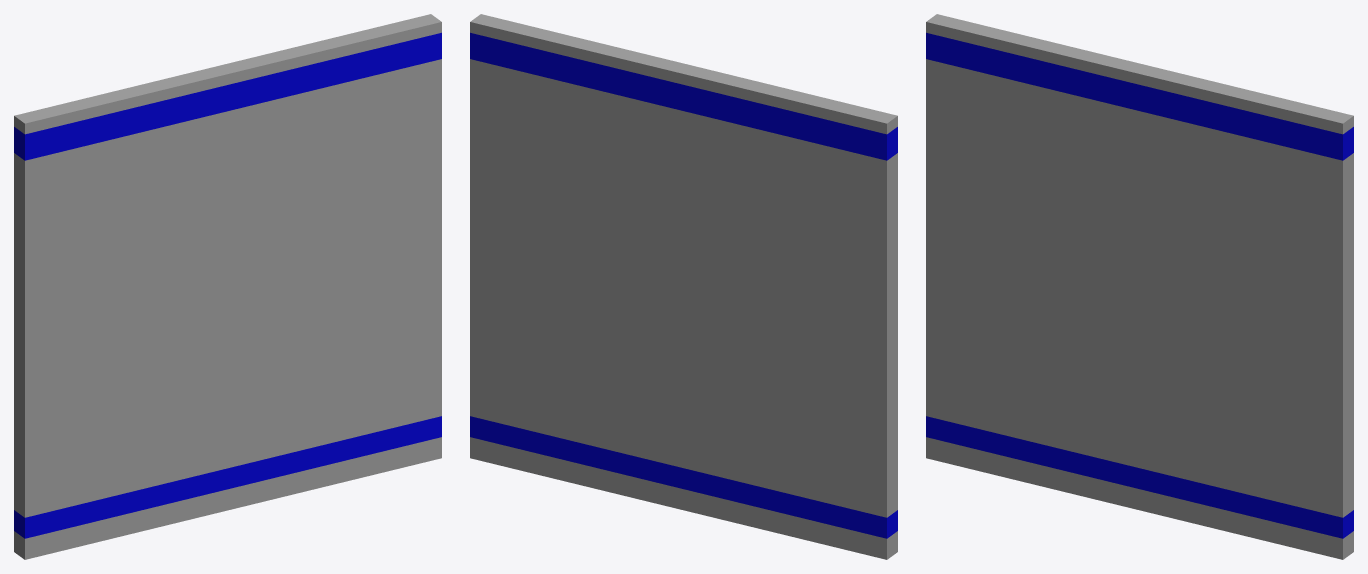
Rendered from futurewall.fbx.
3 views of the same model, side by side, from view 1: azimuth 30°, elevation 25°; view 2: azimuth 150°, elevation 25°; view 3: azimuth 330°, elevation 25° (orthographic).
Parts seen in each view (by area): view 1: pPlane2; view 2: pPlane2; view 3: pPlane2.
Boxes of the visible parts, box(x1,y1,x2,y2) form: pPlane2: box(14, 14, 441, 559); pPlane2: box(470, 14, 897, 559); pPlane2: box(926, 14, 1353, 559).
Bounding box in the file's own units: 5.31 × 5.31 × 0.2383.
